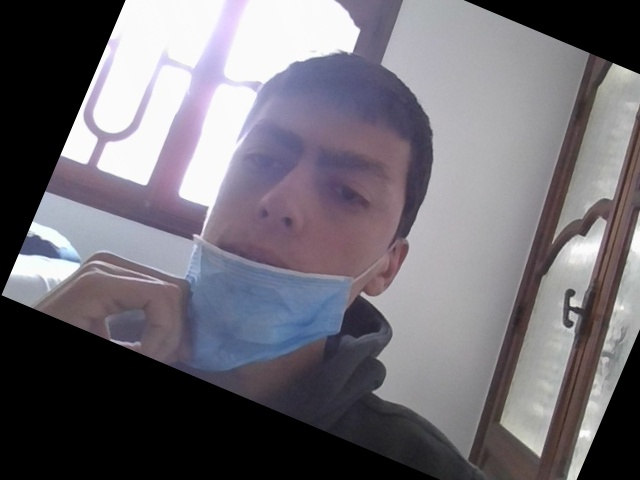mask_weared_incorrect: (170, 77, 426, 372)
